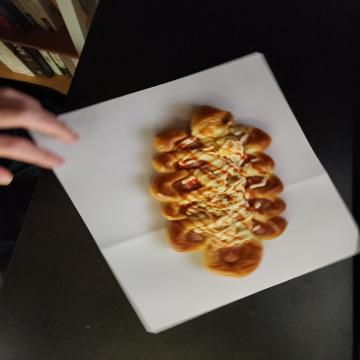pizza_bread: (104, 72, 280, 210)
